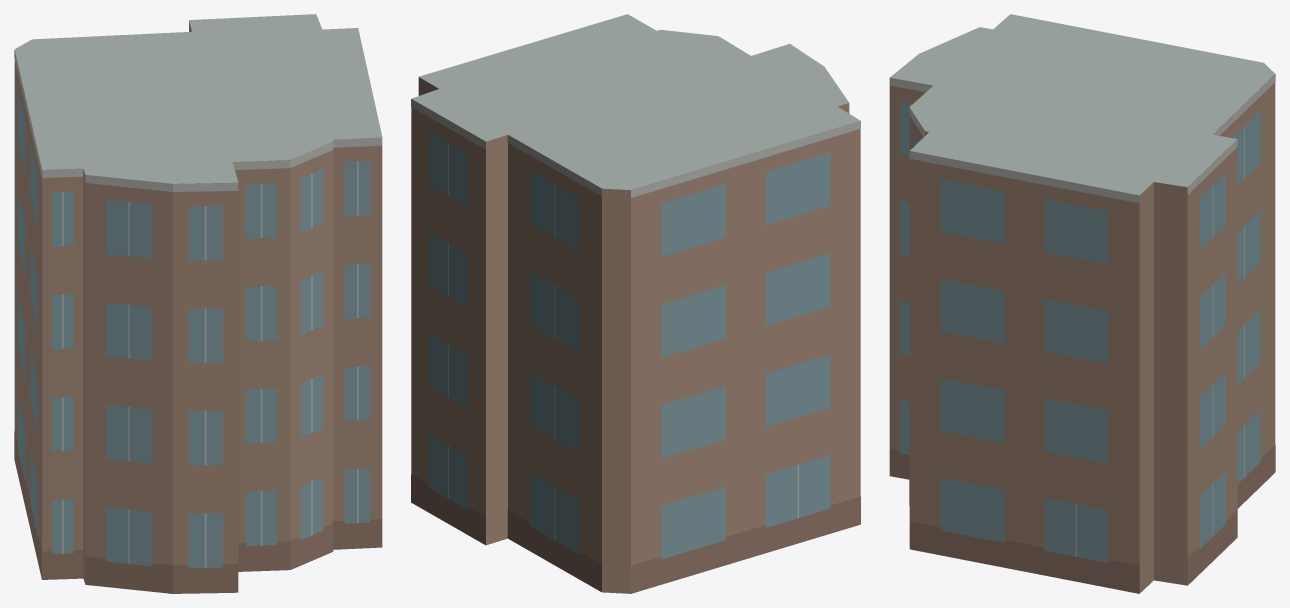
Rendered from survey-upis-32709708.glb.
3 renders of one model, left to right at view 1: azimuth 30°, elevation 25°; view 2: azimuth 150°, elevation 25°; view 3: azimuth 270°, elevation 25°, orthographic. The views are drawn at different scales.
Parts seen in each view (by area): view 1: survey-upis-32709708.tmp; view 2: survey-upis-32709708.tmp; view 3: survey-upis-32709708.tmp.
Boxes of the visible parts, bbox=[...] form: survey-upis-32709708.tmp: bbox=[14, 14, 382, 593]; survey-upis-32709708.tmp: bbox=[411, 14, 860, 593]; survey-upis-32709708.tmp: bbox=[889, 14, 1275, 593].
Size of the model in its own units: 12.02 by 12.3 by 10.8.
